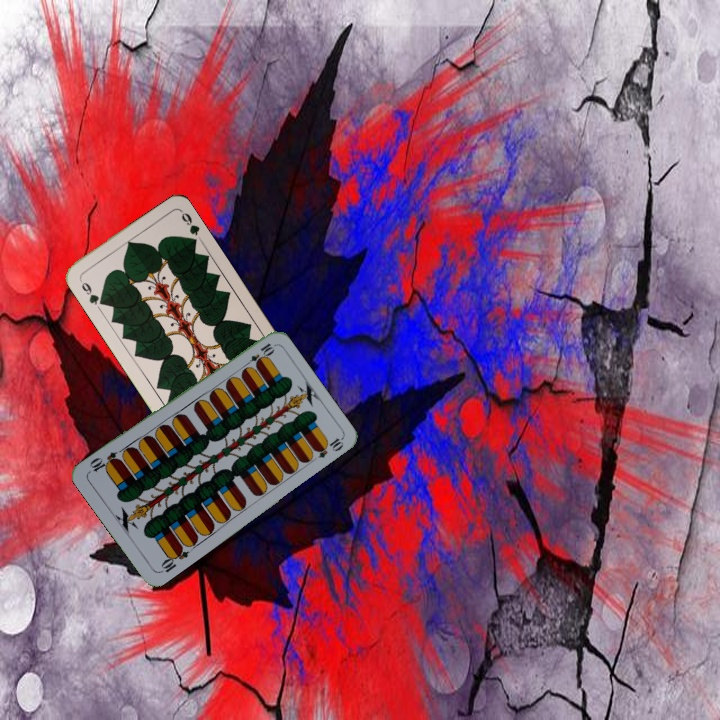E10: (156, 542, 191, 575), (240, 339, 276, 371)
G9: (75, 274, 107, 308)
